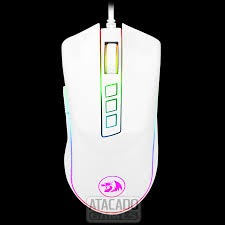mouse: (46, 21, 162, 217)
